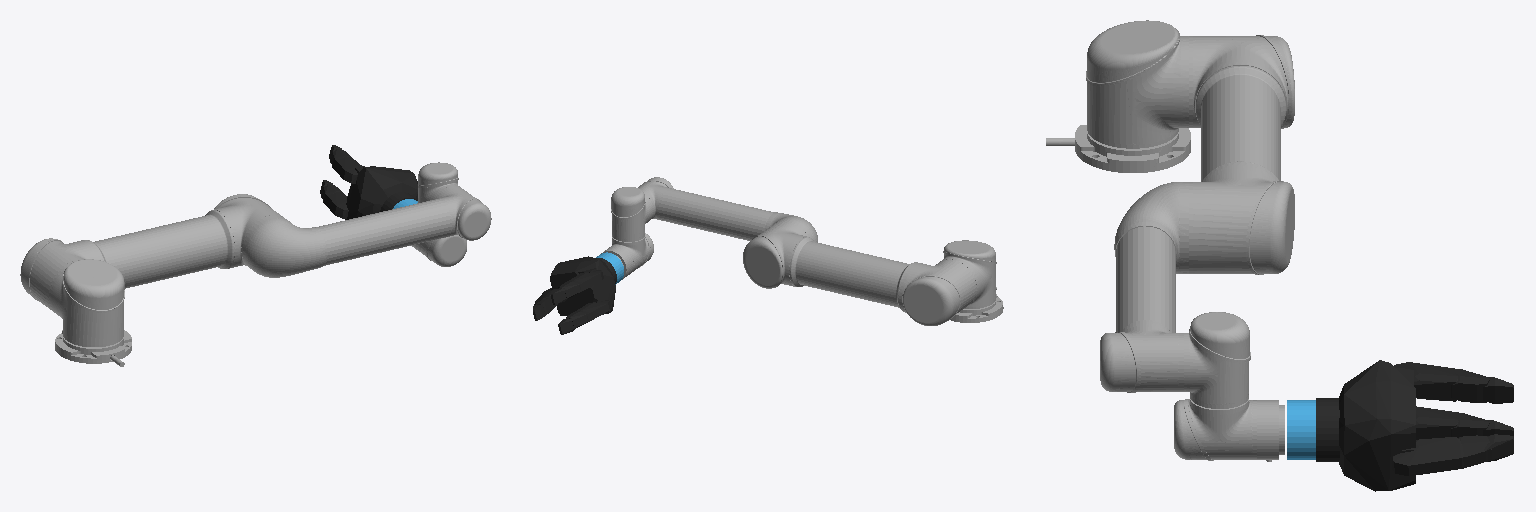
--- Render facts (derived) ---
3 views of the same robot in one strip: view 1: azimuth 30°, elevation 25°; view 2: azimuth 150°, elevation 25°; view 3: azimuth 270°, elevation 25° (orthographic).
Robot: willbot — 35 links, 34 joints (17 revolute, 16 fixed, 1 floating); root link world; default pose: joints at zero except 6 at the middle of their limits (finger_1_joint_1 = 0.6357, finger_1_joint_3 = -0.637, finger_2_joint_1 = 0.6357, finger_2_joint_3 = -0.637, finger_middle_joint_1 = 0.6357, finger_middle_joint_3 = -0.637).
Visible links, largest first — view 1: upper_arm_link, forearm_link, shoulder_link, palm, base_link, wrist_1_link, wrist_2_link; view 2: upper_arm_link, forearm_link, shoulder_link, palm, wrist_1_link, wrist_2_link, base_link; view 3: upper_arm_link, forearm_link, shoulder_link, palm, wrist_1_link, wrist_2_link, base_link, finger_middle_link_1, fts_robotside, wrist_3_link, adapter_link, finger_1_link_1 (+6 smaller).
Link boxes in pixels (<box>): upper_arm_link: <box>20,194,283,312</box>; forearm_link: <box>243,186,491,277</box>; shoulder_link: <box>49,259,124,346</box>; palm: <box>346,166,417,219</box>; base_link: <box>55,330,131,366</box>; wrist_1_link: <box>418,162,459,202</box>; wrist_2_link: <box>412,235,466,266</box>; upper_arm_link: <box>743,221,976,325</box>; forearm_link: <box>638,177,817,242</box>; shoulder_link: <box>940,240,996,308</box>; palm: <box>550,256,615,315</box>; wrist_1_link: <box>611,187,652,241</box>; wrist_2_link: <box>609,233,653,274</box>; base_link: <box>950,287,1003,322</box>; upper_arm_link: <box>1189,35,1294,274</box>; forearm_link: <box>1100,182,1188,392</box>; shoulder_link: <box>1086,20,1188,148</box>; palm: <box>1338,360,1415,491</box>; wrist_1_link: <box>1184,312,1250,408</box>; wrist_2_link: <box>1174,399,1256,460</box>; base_link: <box>1046,125,1190,172</box>; finger_middle_link_1: <box>1392,437,1463,475</box>; fts_robotside: <box>1287,400,1315,459</box>; wrist_3_link: <box>1257,400,1284,461</box>; adapter_link: <box>1316,398,1339,461</box>; finger_1_link_1: <box>1394,362,1457,401</box>.
Bounding box of the posed robot: 0.9697 × 0.5902 × 0.2424 m (x, y, z).
Meshes: 12 distinct files referenced, 20 mesh visuals loaded (5 binary STL, 7 Collada DAE).

robot.urdf — willbot:
<?xml version="1.0" ?>
<!-- =================================================================================== -->
<!-- |    This document was autogenerated by xacro from [local-path]/ros_kinetic_ws/src/willbot_workspace/willbot_stack/willbot_description/urdf/willbot.urdf.xacro | -->
<!-- |    EDITING THIS FILE BY HAND IS NOT RECOMMENDED                                 | -->
<!-- =================================================================================== -->
<robot name="willbot" xmlns:xacro="http://wiki.ros.org/xacro">
  <gazebo>
    <plugin filename="libgazebo_ros_control.so" name="ros_control">
      <!--robotNamespace>/</robotNamespace-->
      <!--robotSimType>gazebo_ros_control/DefaultRobotHWSim</robotSimType-->
    </plugin>
    <!--
    <plugin name="gazebo_ros_power_monitor_controller" filename="libgazebo_ros_power_monitor.so">
      <alwaysOn>true</alwaysOn>
      <updateRate>1.0</updateRate>
      <timeout>5</timeout>
      <powerStateTopic>power_state</powerStateTopic>
      <powerStateRate>10.0</powerStateRate>
      <fullChargeCapacity>87.78</fullChargeCapacity>     
      <dischargeRate>-474</dischargeRate>
      <chargeRate>525</chargeRate>
      <dischargeVoltage>15.52</dischargeVoltage>
      <chargeVoltage>16.41</chargeVoltage>
    </plugin>
-->
  </gazebo>
  <!-- measured from model -->
  <!--property name="shoulder_height" value="0.089159" /-->
  <!--property name="shoulder_offset" value="0.13585" /-->
  <!-- shoulder_offset - elbow_offset + wrist_1_length = 0.10915 -->
  <!--property name="upper_arm_length" value="0.42500" /-->
  <!--property name="elbow_offset" value="0.1197" /-->
  <!-- CAD measured -->
  <!--property name="forearm_length" value="0.39225" /-->
  <!--property name="wrist_1_length" value="0.093" /-->
  <!-- CAD measured -->
  <!--property name="wrist_2_length" value="0.09465" /-->
  <!-- In CAD this distance is 0.930, but in the spec it is 0.09465 -->
  <!--property name="wrist_3_length" value="0.0823" /-->
  <!-- manually measured -->
  <link name="base_link">
    <visual>
      <geometry>
        <mesh filename="package://ur_description/meshes/ur5/visual/base.dae"/>
      </geometry>
      <material name="LightGrey">
        <color rgba="0.7 0.7 0.7 1.0"/>
      </material>
    </visual>
    <collision>
      <geometry>
        <mesh filename="package://ur_description/meshes/ur5/collision/base.stl"/>
      </geometry>
    </collision>
    <inertial>
      <mass value="4.0"/>
      <origin rpy="0 0 0" xyz="0.0 0.0 0.0"/>
      <inertia ixx="0.00443333156" ixy="0.0" ixz="0.0" iyy="0.00443333156" iyz="0.0" izz="0.0072"/>
    </inertial>
  </link>
  <joint name="shoulder_pan_joint" type="revolute">
    <parent link="base_link"/>
    <child link="shoulder_link"/>
    <origin rpy="0.0 0.0 0.0" xyz="0.0 0.0 0.089159"/>
    <axis xyz="0 0 1"/>
    <limit effort="150.0" lower="-6.28318530718" upper="0" velocity="3.15"/>
    <dynamics damping="0.0" friction="0.0"/>
  </joint>
  <link name="shoulder_link">
    <visual>
      <geometry>
        <mesh filename="package://ur_description/meshes/ur5/visual/shoulder.dae"/>
      </geometry>
      <material name="LightGrey">
        <color rgba="0.7 0.7 0.7 1.0"/>
      </material>
    </visual>
    <collision>
      <geometry>
        <mesh filename="package://ur_description/meshes/ur5/collision/shoulder.stl"/>
      </geometry>
    </collision>
    <inertial>
      <mass value="3.7"/>
      <origin rpy="0 0 0" xyz="0.0 0.0 0.0"/>
      <inertia ixx="0.010267495893" ixy="0.0" ixz="0.0" iyy="0.010267495893" iyz="0.0" izz="0.00666"/>
    </inertial>
  </link>
  <joint name="shoulder_lift_joint" type="revolute">
    <parent link="shoulder_link"/>
    <child link="upper_arm_link"/>
    <origin rpy="0.0 1.57079632679 0.0" xyz="0.0 0.13585 0.0"/>
    <axis xyz="0 1 0"/>
    <limit effort="150.0" lower="-3.14159265359" upper="3.14159265359" velocity="3.15"/>
    <dynamics damping="0.0" friction="0.0"/>
  </joint>
  <link name="upper_arm_link">
    <visual>
      <geometry>
        <mesh filename="package://ur_description/meshes/ur5/visual/upperarm.dae"/>
      </geometry>
      <material name="LightGrey">
        <color rgba="0.7 0.7 0.7 1.0"/>
      </material>
    </visual>
    <collision>
      <geometry>
        <mesh filename="package://ur_description/meshes/ur5/collision/upperarm.stl"/>
      </geometry>
    </collision>
    <inertial>
      <mass value="8.393"/>
      <origin rpy="0 0 0" xyz="0.0 0.0 0.28"/>
      <inertia ixx="0.22689067591" ixy="0.0" ixz="0.0" iyy="0.22689067591" iyz="0.0" izz="0.0151074"/>
    </inertial>
  </link>
  <joint name="elbow_joint" type="revolute">
    <parent link="upper_arm_link"/>
    <child link="forearm_link"/>
    <origin rpy="0.0 0.0 0.0" xyz="0.0 -0.1197 0.425"/>
    <axis xyz="0 1 0"/>
    <limit effort="150.0" lower="-6.28318530718" upper="0" velocity="3.15"/>
    <dynamics damping="0.0" friction="0.0"/>
  </joint>
  <link name="forearm_link">
    <visual>
      <geometry>
        <mesh filename="package://ur_description/meshes/ur5/visual/forearm.dae"/>
      </geometry>
      <material name="LightGrey">
        <color rgba="0.7 0.7 0.7 1.0"/>
      </material>
    </visual>
    <collision>
      <geometry>
        <mesh filename="package://ur_description/meshes/ur5/collision/forearm.stl"/>
      </geometry>
    </collision>
    <inertial>
      <mass value="2.275"/>
      <origin rpy="0 0 0" xyz="0.0 0.0 0.25"/>
      <inertia ixx="0.049443313556" ixy="0.0" ixz="0.0" iyy="0.049443313556" iyz="0.0" izz="0.004095"/>
    </inertial>
  </link>
  <joint name="wrist_1_joint" type="revolute">
    <parent link="forearm_link"/>
    <child link="wrist_1_link"/>
    <origin rpy="0.0 1.57079632679 0.0" xyz="0.0 0.0 0.39225"/>
    <axis xyz="0 1 0"/>
    <limit effort="28.0" lower="-6.28318530718" upper="0" velocity="3.2"/>
    <dynamics damping="0.0" friction="0.0"/>
  </joint>
  <link name="wrist_1_link">
    <visual>
      <geometry>
        <mesh filename="package://ur_description/meshes/ur5/visual/wrist1.dae"/>
      </geometry>
      <material name="LightGrey">
        <color rgba="0.7 0.7 0.7 1.0"/>
      </material>
    </visual>
    <collision>
      <geometry>
        <mesh filename="package://ur_description/meshes/ur5/collision/wrist1.stl"/>
      </geometry>
    </collision>
    <inertial>
      <mass value="1.219"/>
      <origin rpy="0 0 0" xyz="0.0 0.0 0.0"/>
      <inertia ixx="0.111172755531" ixy="0.0" ixz="0.0" iyy="0.111172755531" iyz="0.0" izz="0.21942"/>
    </inertial>
  </link>
  <joint name="wrist_2_joint" type="revolute">
    <parent link="wrist_1_link"/>
    <child link="wrist_2_link"/>
    <origin rpy="0.0 0.0 0.0" xyz="0.0 0.093 0.0"/>
    <axis xyz="0 0 1"/>
    <limit effort="28.0" lower="-3.14159265359" upper="3.14159265359" velocity="3.2"/>
    <dynamics damping="0.0" friction="0.0"/>
  </joint>
  <link name="wrist_2_link">
    <visual>
      <geometry>
        <mesh filename="package://ur_description/meshes/ur5/visual/wrist2.dae"/>
      </geometry>
      <material name="LightGrey">
        <color rgba="0.7 0.7 0.7 1.0"/>
      </material>
    </visual>
    <collision>
      <geometry>
        <mesh filename="package://ur_description/meshes/ur5/collision/wrist2.stl"/>
      </geometry>
    </collision>
    <inertial>
      <mass value="1.219"/>
      <origin rpy="0 0 0" xyz="0.0 0.0 0.0"/>
      <inertia ixx="0.111172755531" ixy="0.0" ixz="0.0" iyy="0.111172755531" iyz="0.0" izz="0.21942"/>
    </inertial>
  </link>
  <joint name="wrist_3_joint" type="revolute">
    <parent link="wrist_2_link"/>
    <child link="wrist_3_link"/>
    <origin rpy="0.0 0.0 0.0" xyz="0.0 0.0 0.09465"/>
    <axis xyz="0 1 0"/>
    <limit effort="28.0" lower="0.0" upper="6.28318530718" velocity="3.2"/>
    <dynamics damping="0.0" friction="0.0"/>
  </joint>
  <link name="wrist_3_link">
    <visual>
      <geometry>
        <mesh filename="package://ur_description/meshes/ur5/visual/wrist3.dae"/>
      </geometry>
      <material name="LightGrey">
        <color rgba="0.7 0.7 0.7 1.0"/>
      </material>
    </visual>
    <collision>
      <geometry>
        <mesh filename="package://ur_description/meshes/ur5/collision/wrist3.stl"/>
      </geometry>
    </collision>
    <inertial>
      <mass value="0.1879"/>
      <origin rpy="0 0 0" xyz="0.0 0.0 0.0"/>
      <inertia ixx="0.0171364731454" ixy="0.0" ixz="0.0" iyy="0.0171364731454" iyz="0.0" izz="0.033822"/>
    </inertial>
  </link>
  <joint name="ee_fixed_joint" type="fixed">
    <parent link="wrist_3_link"/>
    <child link="ee_link"/>
    <origin rpy="0.0 0.0 1.57079632679" xyz="0.0 0.0823 0.0"/>
  </joint>
  <link name="ee_link">
    <collision>
      <geometry>
        <box size="0.01 0.01 0.01"/>
      </geometry>
      <origin rpy="0 0 0" xyz="-0.01 0 0"/>
    </collision>
    <inertial>
      <mass value="0"/>
      <origin rpy="0 0 0" xyz="0 0 0"/>
      <inertia ixx="0" ixy="0" ixz="0" iyy="0" iyz="0" izz="0"/>
    </inertial>
  </link>
  <transmission name="shoulder_pan_trans">
    <type>transmission_interface/SimpleTransmission</type>
    <joint name="shoulder_pan_joint">
      <hardwareInterface>hardware_interface/PositionJointInterface</hardwareInterface>
    </joint>
    <actuator name="shoulder_pan_motor">
      <mechanicalReduction>1</mechanicalReduction>
    </actuator>
  </transmission>
  <transmission name="shoulder_lift_trans">
    <type>transmission_interface/SimpleTransmission</type>
    <joint name="shoulder_lift_joint">
      <hardwareInterface>hardware_interface/PositionJointInterface</hardwareInterface>
    </joint>
    <actuator name="shoulder_lift_motor">
      <mechanicalReduction>1</mechanicalReduction>
    </actuator>
  </transmission>
  <transmission name="elbow_trans">
    <type>transmission_interface/SimpleTransmission</type>
    <joint name="elbow_joint">
      <hardwareInterface>hardware_interface/PositionJointInterface</hardwareInterface>
    </joint>
    <actuator name="elbow_motor">
      <mechanicalReduction>1</mechanicalReduction>
    </actuator>
  </transmission>
  <transmission name="wrist_1_trans">
    <type>transmission_interface/SimpleTransmission</type>
    <joint name="wrist_1_joint">
      <hardwareInterface>hardware_interface/PositionJointInterface</hardwareInterface>
    </joint>
    <actuator name="wrist_1_motor">
      <mechanicalReduction>1</mechanicalReduction>
    </actuator>
  </transmission>
  <transmission name="wrist_2_trans">
    <type>transmission_interface/SimpleTransmission</type>
    <joint name="wrist_2_joint">
      <hardwareInterface>hardware_interface/PositionJointInterface</hardwareInterface>
    </joint>
    <actuator name="wrist_2_motor">
      <mechanicalReduction>1</mechanicalReduction>
    </actuator>
  </transmission>
  <transmission name="wrist_3_trans">
    <type>transmission_interface/SimpleTransmission</type>
    <joint name="wrist_3_joint">
      <hardwareInterface>hardware_interface/PositionJointInterface</hardwareInterface>
    </joint>
    <actuator name="wrist_3_motor">
      <mechanicalReduction>1</mechanicalReduction>
    </actuator>
  </transmission>
  <gazebo reference="shoulder_link">
    <selfCollide>true</selfCollide>
  </gazebo>
  <gazebo reference="upper_arm_link">
    <selfCollide>true</selfCollide>
  </gazebo>
  <gazebo reference="forearm_link">
    <selfCollide>true</selfCollide>
  </gazebo>
  <gazebo reference="wrist_1_link">
    <selfCollide>true</selfCollide>
  </gazebo>
  <gazebo reference="wrist_3_link">
    <selfCollide>true</selfCollide>
  </gazebo>
  <gazebo reference="wrist_2_link">
    <selfCollide>true</selfCollide>
  </gazebo>
  <gazebo reference="ee_link">
    <selfCollide>true</selfCollide>
  </gazebo>
  <!-- ROS base_link to UR 'Base' Coordinates transform -->
  <link name="base">
    <inertial>
      <mass value="0"/>
      <origin rpy="0 0 0" xyz="0 0 0"/>
      <inertia ixx="0" ixy="0" ixz="0" iyy="0" iyz="0" izz="0"/>
    </inertial>
  </link>
  <joint name="base_link-base_fixed_joint" type="fixed">
    <!-- NOTE: this rotation is only needed as long as base_link itself is
                 not corrected wrt the real robot (ie: rotated over 180
                 degrees)
      -->
    <origin rpy="0 0 -3.14159265359" xyz="0 0 0"/>
    <parent link="base_link"/>
    <child link="base"/>
  </joint>
  <!-- Frame coincident with all-zeros TCP on UR controller -->
  <link name="tool0">
    <inertial>
      <mass value="0"/>
      <origin rpy="0 0 0" xyz="0 0 0"/>
      <inertia ixx="0" ixy="0" ixz="0" iyy="0" iyz="0" izz="0"/>
    </inertial>
  </link>
  <joint name="wrist_3_link-tool0_fixed_joint" type="fixed">
    <origin rpy="-1.57079632679 0 0" xyz="0 0.0823 0"/>
    <parent link="wrist_3_link"/>
    <child link="tool0"/>
  </joint>
  <!-- Connect tool0_controller to base using floating joint -->
  <!-- This frame will be sending by the UR5 driver with take into account the arm calibration -->
  <joint name="base_tool0_controller_floating_joint" type="floating">
    <origin rpy="0 0 0" xyz="0 0 0"/>
    <parent link="base"/>
    <child link="tool0_controller"/>
  </joint>
  <link name="tool0_controller">
    <inertial>
      <mass value="0"/>
      <origin rpy="0 0 0" xyz="0 0 0"/>
      <inertia ixx="0" ixy="0" ixz="0" iyy="0" iyz="0" izz="0"/>
    </inertial>
  </link>
  <!-- link list -->

  <!-- HAND PART -->
  <link name="finger_1_link_0">
    <visual>
      <origin rpy="0 0 0" xyz="0.020 0 0"/>
      <geometry>
        <mesh filename="package://ur_description/meshes/s-model_articulated/visual/link_0.STL"/>
      </geometry>
      <material name="gray">
        <color rgba="0.2 0.2 0.2 1"/>
      </material>
    </visual>
    <collision>
      <origin rpy="0 0 0" xyz="0.020 0 0"/>
      <geometry>
        <mesh filename="package://ur_description/meshes/s-model_articulated/collision/link_0.STL"/>
      </geometry>
      <material name="yellow">
        <color rgba="0 1 1 1"/>
      </material>
    </collision>
    <inertial>
      <origin rpy="0 0 0" xyz="0 0 0"/>
      <mass value="0.05"/>
      <inertia ixx="0.01" ixy="0" ixz="0" iyy="0.01" iyz="0" izz="0.01"/>
    </inertial>
  </link>
  <link name="finger_1_link_1">
    <visual>
      <origin rpy="0 0 -0.52" xyz="0.050 -.028 0"/>
      <geometry>
        <mesh filename="package://ur_description/meshes/s-model_articulated/visual/link_1.STL"/>
      </geometry>
      <material name="gray"/>
    </visual>
    <collision>
      <origin rpy="0 0 -0.52" xyz="0.050 -.028 0"/>
      <geometry>
        <mesh filename="package://ur_description/meshes/s-model_articulated/collision/link_1.STL"/>
      </geometry>
      <material name="yellow"/>
    </collision>
    <inertial>
      <origin rpy="0 0 0" xyz="0 0 0"/>
      <mass value="0.15"/>
      <inertia ixx="0.01" ixy="0" ixz="0" iyy="0.01" iyz="0" izz="0.01"/>
    </inertial>
  </link>
  <link name="finger_1_link_2">
    <!--
			NOTE: This link has an offset in the z-direction based on the models that were
			used to generate grap-it poses.  With the offset below the model appears visually
			correct, but it is suspect.
			-->
    <visual>
      <origin rpy="0 0 0" xyz="0.039 0 0.0075"/>
      <geometry>
        <mesh filename="package://ur_description/meshes/s-model_articulated/visual/link_2.STL"/>
      </geometry>
      <material name="gray"/>
    </visual>
    <collision>
      <origin rpy="0 0 0" xyz="0.039 0 0.0075"/>
      <geometry>
        <mesh filename="package://ur_description/meshes/s-model_articulated/collision/link_2.STL"/>
      </geometry>
      <material name="yellow"/>
    </collision>
    <inertial>
      <origin rpy="0 0 0" xyz="0 0 0"/>
      <mass value="0.15"/>
      <inertia ixx="0.01" ixy="0" ixz="0" iyy="0.01" iyz="0" izz="0.01"/>
    </inertial>
  </link>
  <link name="finger_1_link_3">
    <visual>
      <origin rpy="0 0 0.52" xyz="0 0 0"/>
      <geometry>
        <mesh filename="package://ur_description/meshes/s-model_articulated/visual/link_3.STL"/>
      </geometry>
      <material name="gray"/>
    </visual>
    <collision>
      <origin rpy="0 0 0.52" xyz="0 0 0"/>
      <geometry>
        <mesh filename="package://ur_description/meshes/s-model_articulated/collision/link_3.STL"/>
      </geometry>
      <material name="yellow"/>
    </collision>
    <inertial>
      <origin rpy="0 0 0" xyz="0 0 0"/>
      <mass value="0.05"/>
      <inertia ixx="0.01" ixy="0" ixz="0" iyy="0.01" iyz="0" izz="0.01"/>
    </inertial>
  </link>
  <!-- end of link list -->
  <!-- joint list -->
  <joint name="finger_1_joint_1" type="revolute">
    <parent link="finger_1_link_0"/>
    <child link="finger_1_link_1"/>
    <axis xyz="0 0 1"/>
    <origin rpy="0 0 0" xyz="0.020 0 0"/>
    <limit effort="100" lower="0.0495" upper="1.2218" velocity="100"/>
  </joint>
  <joint name="finger_1_joint_2" type="revolute">
    <parent link="finger_1_link_1"/>
    <child link="finger_1_link_2"/>
    <axis xyz="0 0 1"/>
    <origin rpy="0 0 -0.52" xyz="0.050 -.028 0"/>
    <limit effort="100" lower="0.0" upper="1.5708" velocity="100"/>
  </joint>
  <joint name="finger_1_joint_3" type="revolute">
    <parent link="finger_1_link_2"/>
    <child link="finger_1_link_3"/>
    <axis xyz="0 0 1"/>
    <origin rpy="0 0 0" xyz="0.039 0 0"/>
    <limit effort="100" lower="-1.2217" upper="-0.0523" velocity="100"/>
  </joint>
  <!-- end of joint list -->
  <!-- link list -->
  <link name="finger_2_link_0">
    <visual>
      <origin rpy="0 0 0" xyz="0.020 0 0"/>
      <geometry>
        <mesh filename="package://ur_description/meshes/s-model_articulated/visual/link_0.STL"/>
      </geometry>
      <material name="gray">
        <color rgba="0.2 0.2 0.2 1"/>
      </material>
    </visual>
    <collision>
      <origin rpy="0 0 0" xyz="0.020 0 0"/>
      <geometry>
        <mesh filename="package://ur_description/meshes/s-model_articulated/collision/link_0.STL"/>
      </geometry>
      <material name="yellow">
        <color rgba="0 1 1 1"/>
      </material>
    </collision>
    <inertial>
      <origin rpy="0 0 0" xyz="0 0 0"/>
      <mass value="0.05"/>
      <inertia ixx="0.01" ixy="0" ixz="0" iyy="0.01" iyz="0" izz="0.01"/>
    </inertial>
  </link>
  <link name="finger_2_link_1">
    <visual>
      <origin rpy="0 0 -0.52" xyz="0.050 -.028 0"/>
      <geometry>
        <mesh filename="package://ur_description/meshes/s-model_articulated/visual/link_1.STL"/>
      </geometry>
      <material name="gray"/>
    </visual>
    <collision>
      <origin rpy="0 0 -0.52" xyz="0.050 -.028 0"/>
      <geometry>
        <mesh filename="package://ur_description/meshes/s-model_articulated/collision/link_1.STL"/>
      </geometry>
      <material name="yellow"/>
    </collision>
    <inertial>
      <origin rpy="0 0 0" xyz="0 0 0"/>
      <mass value="0.15"/>
      <inertia ixx="0.01" ixy="0" ixz="0" iyy="0.01" iyz="0" izz="0.01"/>
    </inertial>
  </link>
  <link name="finger_2_link_2">
    <!--
			NOTE: This link has an offset in the z-direction based on the models that were
			used to generate grap-it poses.  With the offset below the model appears visually
			correct, but it is suspect.
			-->
    <visual>
      <origin rpy="0 0 0" xyz="0.039 0 0.0075"/>
      <geometry>
        <mesh filename="package://ur_description/meshes/s-model_articulated/visual/link_2.STL"/>
      </geometry>
      <material name="gray"/>
    </visual>
    <collision>
      <origin rpy="0 0 0" xyz="0.039 0 0.0075"/>
      <geometry>
        <mesh filename="package://ur_description/meshes/s-model_articulated/collision/link_2.STL"/>
      </geometry>
      <material name="yellow"/>
    </collision>
    <inertial>
      <origin rpy="0 0 0" xyz="0 0 0"/>
      <mass value="0.15"/>
      <inertia ixx="0.01" ixy="0" ixz="0" iyy="0.01" iyz="0" izz="0.01"/>
    </inertial>
  </link>
  <link name="finger_2_link_3">
    <visual>
      <origin rpy="0 0 0.52" xyz="0 0 0"/>
      <geometry>
        <mesh filename="package://ur_description/meshes/s-model_articulated/visual/link_3.STL"/>
      </geometry>
      <material name="gray"/>
    </visual>
    <collision>
      <origin rpy="0 0 0.52" xyz="0 0 0"/>
      <geometry>
        <mesh filename="package://ur_description/meshes/s-model_articulated/collision/link_3.STL"/>
      </geometry>
      <material name="yellow"/>
    </collision>
    <inertial>
      <origin rpy="0 0 0" xyz="0 0 0"/>
      <mass value="0.05"/>
      <inertia ixx="0.01" ixy="0" ixz="0" iyy="0.01" iyz="0" izz="0.01"/>
    </inertial>
  </link>
  <!-- end of link list -->
  <!-- joint list -->
  <joint name="finger_2_joint_1" type="revolute">
    <parent link="finger_2_link_0"/>
    <child link="finger_2_link_1"/>
    <axis xyz="0 0 1"/>
    <origin rpy="0 0 0" xyz="0.020 0 0"/>
    <limit effort="100" lower="0.0495" upper="1.2218" velocity="100"/>
  </joint>
  <joint name="finger_2_joint_2" type="revolute">
    <parent link="finger_2_link_1"/>
    <child link="finger_2_link_2"/>
    <axis xyz="0 0 1"/>
    <origin rpy="0 0 -0.52" xyz="0.050 -.028 0"/>
    <limit effort="100" lower="0.0" upper="1.5708" velocity="100"/>
  </joint>
  <joint name="finger_2_joint_3" type="revolute">
    <parent link="finger_2_link_2"/>
    <child link="finger_2_link_3"/>
    <axis xyz="0 0 1"/>
    <origin rpy="0 0 0" xyz="0.039 0 0"/>
    <limit effort="100" lower="-1.2217" upper="-0.0523" velocity="100"/>
  </joint>
  <!-- end of joint list -->
  <!-- link list -->
  <link name="finger_middle_link_0">
    <visual>
      <origin rpy="0 0 0" xyz="0.020 0 0"/>
      <geometry>
        <mesh filename="package://ur_description/meshes/s-model_articulated/visual/link_0.STL"/>
      </geometry>
      <material name="gray">
        <color rgba="0.2 0.2 0.2 1"/>
      </material>
    </visual>
    <collision>
      <origin rpy="0 0 0" xyz="0.020 0 0"/>
      <geometry>
        <mesh filename="package://ur_description/meshes/s-model_articulated/collision/link_0.STL"/>
      </geometry>
      <material name="yellow">
        <color rgba="0 1 1 1"/>
      </material>
    </collision>
    <inertial>
      <origin rpy="0 0 0" xyz="0 0 0"/>
      <mass value="0.05"/>
      <inertia ixx="0.01" ixy="0" ixz="0" iyy="0.01" iyz="0" izz="0.01"/>
    </inertial>
  </link>
  <link name="finger_middle_link_1">
    <visual>
      <origin rpy="0 0 -0.52" xyz="0.050 -.028 0"/>
      <geometry>
        <mesh filename="package://ur_description/meshes/s-model_articulated/visual/link_1.STL"/>
      </geometry>
      <material name="gray"/>
    </visual>
    <collision>
      <origin rpy="0 0 -0.52" xyz="0.050 -.028 0"/>
      <geometry>
        <mesh filename="package://ur_description/meshes/s-model_articulated/collision/link_1.STL"/>
      </geometry>
      <material name="yellow"/>
    </collision>
    <inertial>
      <origin rpy="0 0 0" xyz="0 0 0"/>
      <mass value="0.15"/>
      <inertia ixx="0.01" ixy="0" ixz="0" iyy="0.01" iyz="0" izz="0.01"/>
    </inertial>
  </link>
  <link name="finger_middle_link_2">
    <!--
			NOTE: This link has an offset in the z-direction based on the models that were
			used to generate grap-it poses.  With the offset below the model appears visually
			correct, but it is suspect.
			-->
    <visual>
      <origin rpy="0 0 0" xyz="0.039 0 0.0075"/>
      <geometry>
        <mesh filename="package://ur_description/meshes/s-model_articulated/visual/link_2.STL"/>
      </geometry>
      <material name="gray"/>
    </visual>
    <collision>
      <origin rpy="0 0 0" xyz="0.039 0 0.0075"/>
      <geometry>
        <mesh filename="package://ur_description/meshes/s-model_articulated/collision/link_2.STL"/>
      </geometry>
      <material name="yellow"/>
    </collision>
    <inertial>
      <origin rpy="0 0 0" xyz="0 0 0"/>
      <mass value="0.15"/>
      <inertia ixx="0.01" ixy="0" ixz="0" iyy="0.01" iyz="0" izz="0.01"/>
    </inertial>
  </link>
  <link name="finger_middle_link_3">
    <visual>
      <origin rpy="0 0 0.52" xyz="0 0 0"/>
      <geometry>
        <mesh filename="package://ur_description/meshes/s-model_articulated/visual/link_3.STL"/>
      </geometry>
      <material name="gray"/>
    </visual>
    <collision>
      <origin rpy="0 0 0.52" xyz="0 0 0"/>
      <geometry>
        <mesh filename="package://ur_description/meshes/s-model_articulated/collision/link_3.STL"/>
      </geometry>
      <material name="yellow"/>
    </collision>
    <inertial>
      <origin rpy="0 0 0" xyz="0 0 0"/>
      <mass value="0.05"/>
      <inertia ixx="0.01" ixy="0" ixz="0" iyy="0.01" iyz="0" izz="0.01"/>
    </inertial>
  </link>
  <!-- end of link list -->
  <!-- joint list -->
  <joint name="finger_middle_joint_1" type="revolute">
    <parent link="finger_middle_link_0"/>
    <child link="finger_middle_link_1"/>
    <axis xyz="0 0 1"/>
    <origin rpy="0 0 0" xyz="0.020 0 0"/>
    <limit effort="100" lower="0.0495" upper="1.2218" velocity="100"/>
  </joint>
  <joint name="finger_middle_joint_2" type="revolute">
    <parent link="finger_middle_link_1"/>
    <child link="finger_middle_link_2"/>
    <axis xyz="0 0 1"/>
    <origin rpy="0 0 -0.52" xyz="0.050 -.028 0"/>
    <limit effort="100" lower="0.0" upper="1.5708" velocity="100"/>
  </joint>
  <joint name="finger_middle_joint_3" type="revolute">
    <parent link="finger_middle_link_2"/>
    <child link="finger_middle_link_3"/>
    <axis xyz="0 0 1"/>
    <origin rpy="0 0 0" xyz="0.039 0 0"/>
    <limit effort="100" lower="-1.2217" upper="-0.0523" velocity="100"/>
  </joint>
  <!-- end of joint list -->
  <!-- link list -->
  <link name="palm">
    <visual>
      <geometry>
        <mesh filename="package://ur_description/meshes/s-model_articulated/visual/palm.STL"/>
      </geometry>
      <material name="gray">
        <color rgba="0.2 0.2 0.2 1"/>
      </material>
    </visual>
    <collision>
      <geometry>
        <mesh filename="package://ur_description/meshes/s-model_articulated/collision/palm.STL"/>
      </geometry>
      <material name="yellow">
        <color rgba="0 1 1 1"/>
      </material>
    </collision>
    <inertial>
      <mass value="0"/>
      <origin rpy="0 0 0" xyz="0 0 0"/>
      <inertia ixx="0" ixy="0" ixz="0" iyy="0" iyz="0" izz="0"/>
    </inertial>
  </link>
  <link name="hand_tool0">
    <inertial>
      <mass value="0"/>
      <origin rpy="0 0 0" xyz="0 0 0"/>
      <inertia ixx="0" ixy="0" ixz="0" iyy="0" iyz="0" izz="0"/>
    </inertial>
  </link>
  <inertial>
    <origin rpy="0 0 0" xyz="0 0 0"/>
    <mass value="1.3"/>
    <inertia ixx="0.006012" ixy="0.000079" ixz="-0.00024" iyy="0.012892" iyz="0" izz="0.002435"/>
  </inertial>
  <!-- end of link list -->
  <!-- joint list -->
  <joint name="palm_finger_1_joint" type="revolute">
    <parent link="palm"/>
    <child link="finger_1_link_0"/>
    <axis xyz="0 1 0"/>
    <origin rpy="0 3.1416 -1.57" xyz="-0.0455 0.0214 0.036"/>
    <limit effort="100" lower="-0.1784" upper="0.192" velocity="100"/>
  </joint>
  <joint name="palm_finger_2_joint" type="revolute">
    <parent link="palm"/>
    <child link="finger_2_link_0"/>
    <axis xyz="0 1 0"/>
    <origin rpy="0 3.1416 -1.57" xyz="-0.0455 0.0214 -0.036"/>
    <limit effort="100" lower="-0.192" upper="0.1784" velocity="100"/>
    <mimic joint="palm_finger_1_joint" multiplier="-1"/>
  </joint>
  <joint name="palm_finger_middle_joint" type="fixed">
    <parent link="palm"/>
    <child link="finger_middle_link_0"/>
    <axis xyz="0 0 1"/>
    <origin rpy="0 0 1.57" xyz="0.0455 0.0214 0"/>
  </joint>
  <joint name="palm_tool0" type="fixed">
    <parent link="palm"/>
    <child link="hand_tool0"/>
    <origin rpy="0 0 1.5707" xyz="0.0 0.0875 0.0"/>
  </joint>
  <!-- end of joint list -->
  <!-- mount the fts to the robot -->
  <joint name="fts_fix" type="fixed">
    <!--In most cases origin would be flange adapter plate: <origin xyz="0 0 0.009" rpy="0 0 0"/> /-->
    <origin rpy="0 0 0" xyz="0 0 0.002"/>
    <parent link="tool0"/>
    <child link="fts_robotside"/>
  </joint>
  <link name="fts_robotside">
    <inertial>
      <origin rpy="0 0 0" xyz="0 0 0.0187"/>
      <mass value="0.3"/>
      <inertia ixx="0.000262" ixy="0" ixz="0" iyy="0.000265" iyz="0" izz="0.000219"/>
    </inertial>
    <visual>
      <origin rpy="0 0 0" xyz="0 0 0.0187"/>
      <geometry>
        <cylinder length="0.0375" radius="0.0375"/>
        <!-- <mesh filename="package://robotiq_ft_sensor/meshes/visual/robotiq_fts150.stl"/> -->
      </geometry>
      <material name="black"/>
    </visual>
    <collision>
      <origin rpy="0 0 0" xyz="0 0 0.0187"/>
      <geometry>
        <cylinder length="0.0375" radius="0.0375"/>
        <!-- <mesh filename="package://robotiq_ft_sensors/meshes/collision/robotiq_fts150.stl"/> -->
      </geometry>
    </collision>
  </link>
  <!-- virtual measurement frame -->
  <joint name="measurment_joint" type="fixed">
    <!-- <origin xyz="0 0 0.01625" rpy="0 0 0" /> -->
    <origin rpy="0 0 0" xyz="0 0 0.0375"/>
    <parent link="fts_robotside"/>
    <child link="robotiq_ft_frame_id"/>
  </joint>
  <link name="robotiq_ft_frame_id">
    <inertial>
      <mass value="0"/>
      <origin rpy="0 0 0" xyz="0 0 0"/>
      <inertia ixx="0" ixy="0" ixz="0" iyy="0" iyz="0" izz="0"/>
    </inertial>
  </link>
  <!-- toolside frame -->
  <joint name="toolside_joint" type="fixed">
    <origin rpy="0 0 0" xyz="0 0 0.0375"/>
    <parent link="fts_robotside"/>
    <child link="fts_toolside"/>
  </joint>
  <link name="fts_toolside">
    <inertial>
      <mass value="0"/>
      <origin rpy="0 0 0" xyz="0 0 0"/>
      <inertia ixx="0" ixy="0" ixz="0" iyy="0" iyz="0" izz="0"/>
    </inertial>
  </link>
  <joint name="tool0-adapter_fixed_joint" type="fixed">
    <origin rpy="0 0 3.40339204139" xyz="0 0 0"/>
    <parent link="fts_toolside"/>
    <child link="adapter_link"/>
  </joint>
  <link name="adapter_link">
    <visual>
      <origin rpy="0 0 0" xyz="0.0 0.0 0.015"/>
      <geometry>
        <cylinder length="0.03" radius="0.04"/>
      </geometry>
      <material name="Grey">
        <color rgba="0.2 0.2 0.2 1.0"/>
      </material>
    </visual>
    <collision>
      <origin rpy="0 0 0" xyz="0.0 0.0 0.015"/>
      <geometry>
        <cylinder length="0.03" radius="0.04"/>
      </geometry>
    </collision>
    <collision>
      <origin rpy="0 0 0" xyz="0.055 0.0 0.035"/>
      <geometry>
        <box size="0.11 0.09 0.07"/>
      </geometry>
    </collision>
    <collision>
      <origin rpy="0 0 0" xyz="0.1 0.0 -0.03"/>
      <geometry>
        <cylinder length="0.1" radius="0.022"/>
      </geometry>
    </collision>
    <inertial>
      <mass value="0.1"/>
      <origin rpy="0 0 0" xyz="0.0 0.0 0.015"/>
      <inertia ixx="4.7499981e-05" ixy="0.0" ixz="0.0" iyy="4.7499981e-05" iyz="0.0" izz="8e-05"/>
    </inertial>
  </link>
  <!-- hand base -->
  <link name="hand_base">
    <inertial>
      <mass value="0"/>
      <origin rpy="0 0 0" xyz="0 0 0"/>
      <inertia ixx="0" ixy="0" ixz="0" iyy="0" iyz="0" izz="0"/>
    </inertial>
  </link>
  <joint name="adapter-hand_base_fixed_joint" type="fixed">
    <origin rpy="0 0 0" xyz="0 0 0.03"/>
    <parent link="adapter_link"/>
    <child link="hand_base"/>
  </joint>
  <!-- hand palm -->
  <joint name="hand_base-palm_fixed_joint" type="fixed">
    <origin rpy="1.57079632679 0 0" xyz="0 0 0.045"/>
    <parent link="hand_base"/>
    <child link="palm"/>
  </joint>
  <!-- vive tracker mount -->
  <link name="tool_mount">
    <inertial>
      <mass value="0"/>
      <origin rpy="0 0 0" xyz="0 0 0"/>
      <inertia ixx="0" ixy="0" ixz="0" iyy="0" iyz="0" izz="0"/>
    </inertial>
  </link>
  <link name="tool_tracker">
    <inertial>
      <mass value="0"/>
      <origin rpy="0 0 0" xyz="0 0 0"/>
      <inertia ixx="0" ixy="0" ixz="0" iyy="0" iyz="0" izz="0"/>
    </inertial>
  </link>
  <joint name="tool0-tool_mount-fixed_joint" type="fixed">
    <origin rpy="0 0 -1.308996939" xyz="0 0 0"/>
    <!-- 115-180 grad -->
    <parent link="tool0"/>
    <child link="tool_mount"/>
  </joint>
  <joint name="tool_mount-tool_tracker-fixed_joint" type="fixed">
    <origin rpy="0 0 0" xyz="0 -0.120 0.004"/>
    <parent link="tool_mount"/>
    <child link="tool_tracker"/>
  </joint>
  <!-- tool position -->
  <link name="tool">
    <inertial>
      <mass value="0"/>
      <origin rpy="0 0 0" xyz="0 0 0"/>
      <inertia ixx="0" ixy="0" ixz="0" iyy="0" iyz="0" izz="0"/>
    </inertial>
  </link>
  <joint name="hand_base-tool_joint" type="fixed">
    <origin rpy="0 0 0" xyz="0 0 0.2"/>
    <parent link="hand_base"/>
    <child link="tool"/>
  </joint>
  <!-- hand palm plane position -->
  <link name="palm_plane">
    <inertial>
      <mass value="0"/>
      <origin rpy="0 0 0" xyz="0 0 0"/>
      <inertia ixx="0" ixy="0" ixz="0" iyy="0" iyz="0" izz="0"/>
    </inertial>
  </link>
  <joint name="hand_base-palm_plane" type="fixed">
    <origin rpy="0 0 0" xyz="0 0 0.05"/>
    <parent link="hand_base"/>
    <child link="palm_plane"/>
  </joint>
  <!-- connect to the world link -->
  <link name="world"/>
  <joint name="world_joint" type="fixed">
    <parent link="world"/>
    <child link="base_link"/>
    <origin rpy="0.0 0.01 0.0" xyz="0.0 0.0 0.0"/>
  </joint>
</robot>
